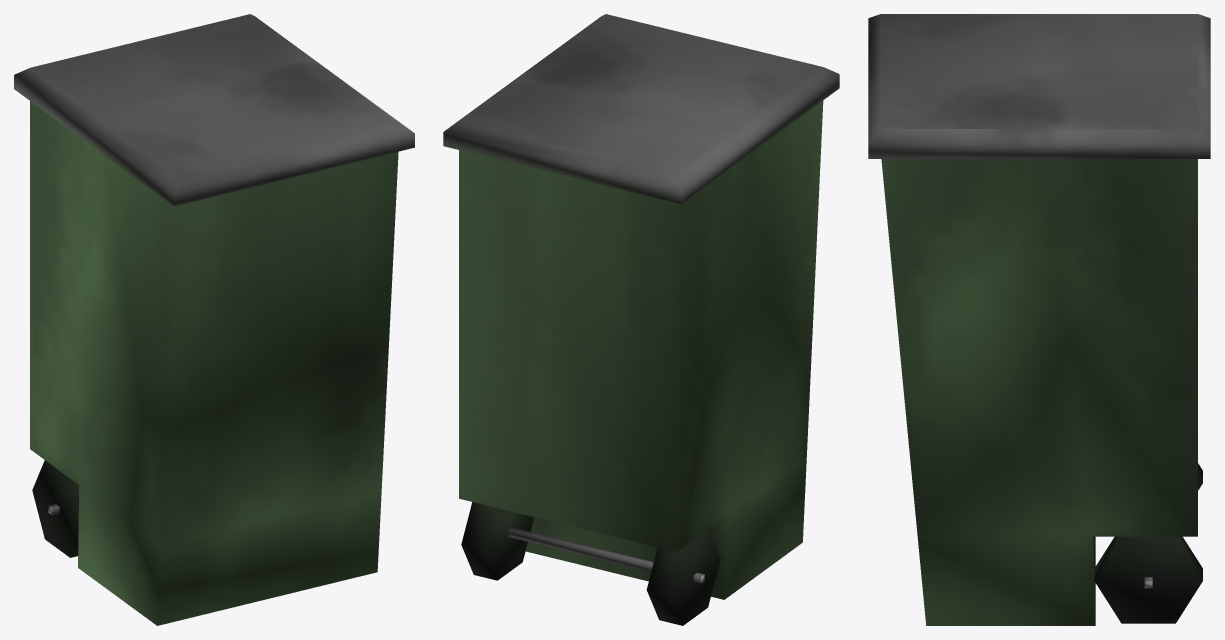
The model's file is Garbage Bin2.fbx.
3 views of the same model, side by side, from view 1: azimuth 30°, elevation 25°; view 2: azimuth 150°, elevation 25°; view 3: azimuth 270°, elevation 25° (orthographic). The views are drawn at different scales.
Parts seen in each view (by area): view 1: Garbage Bin2; view 2: Garbage Bin2; view 3: Garbage Bin2.
Boxes of the visible parts, x1,y1,x2,y2 form: Garbage Bin2: (14, 14, 414, 625); Garbage Bin2: (443, 14, 839, 625); Garbage Bin2: (868, 14, 1210, 625).
Bounding box in the file's own units: 0.6554 × 1.21 × 0.7554.
1 material, 1 textured.
